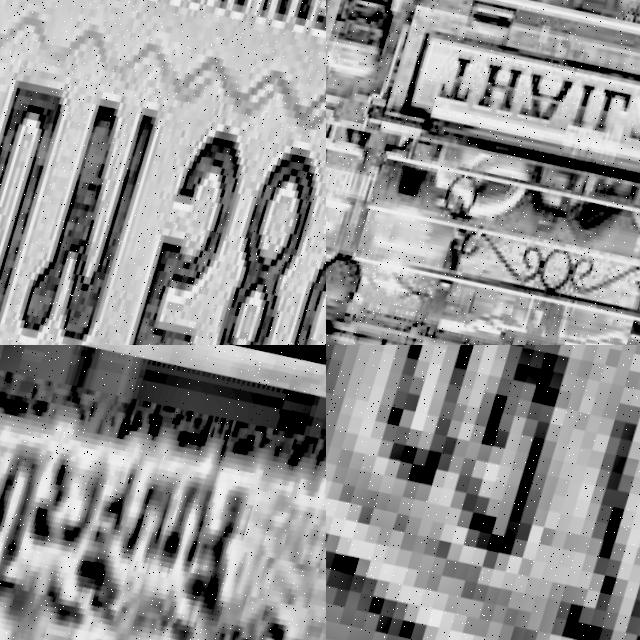license-plate: (0, 0, 326, 345), (0, 345, 326, 640), (326, 345, 640, 640)
